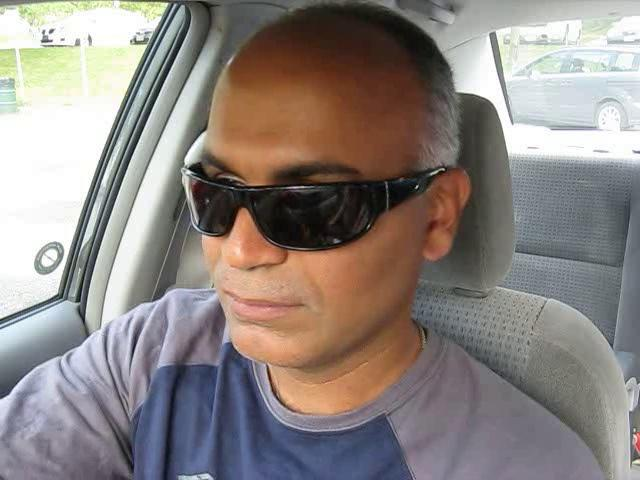no_yawn: (206, 276, 316, 334)
